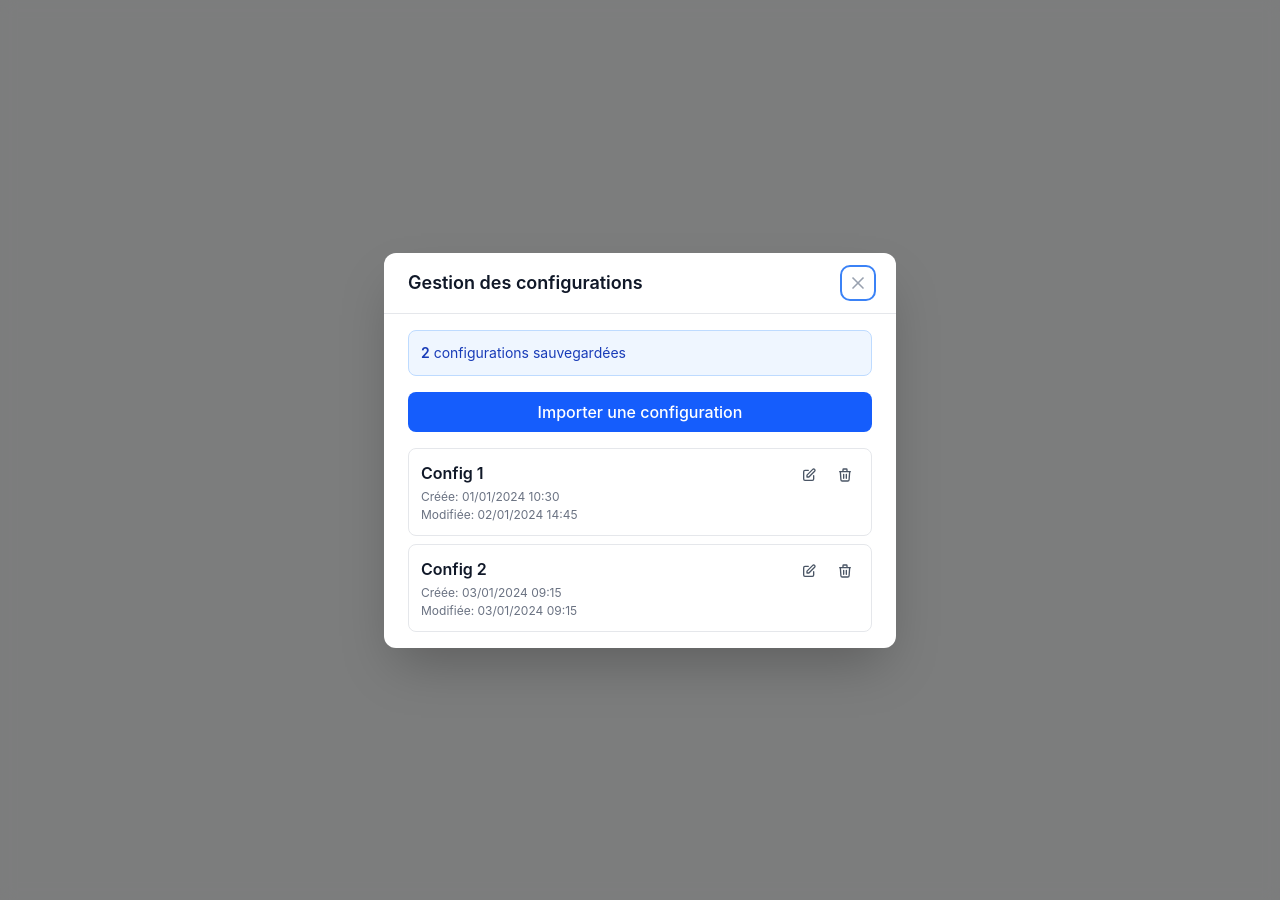
Test: ConfigManagementPanel › should show delete confirmation dialog
Click the button named "Supprimer Config 1": [845, 474] box [831,460,859,488]
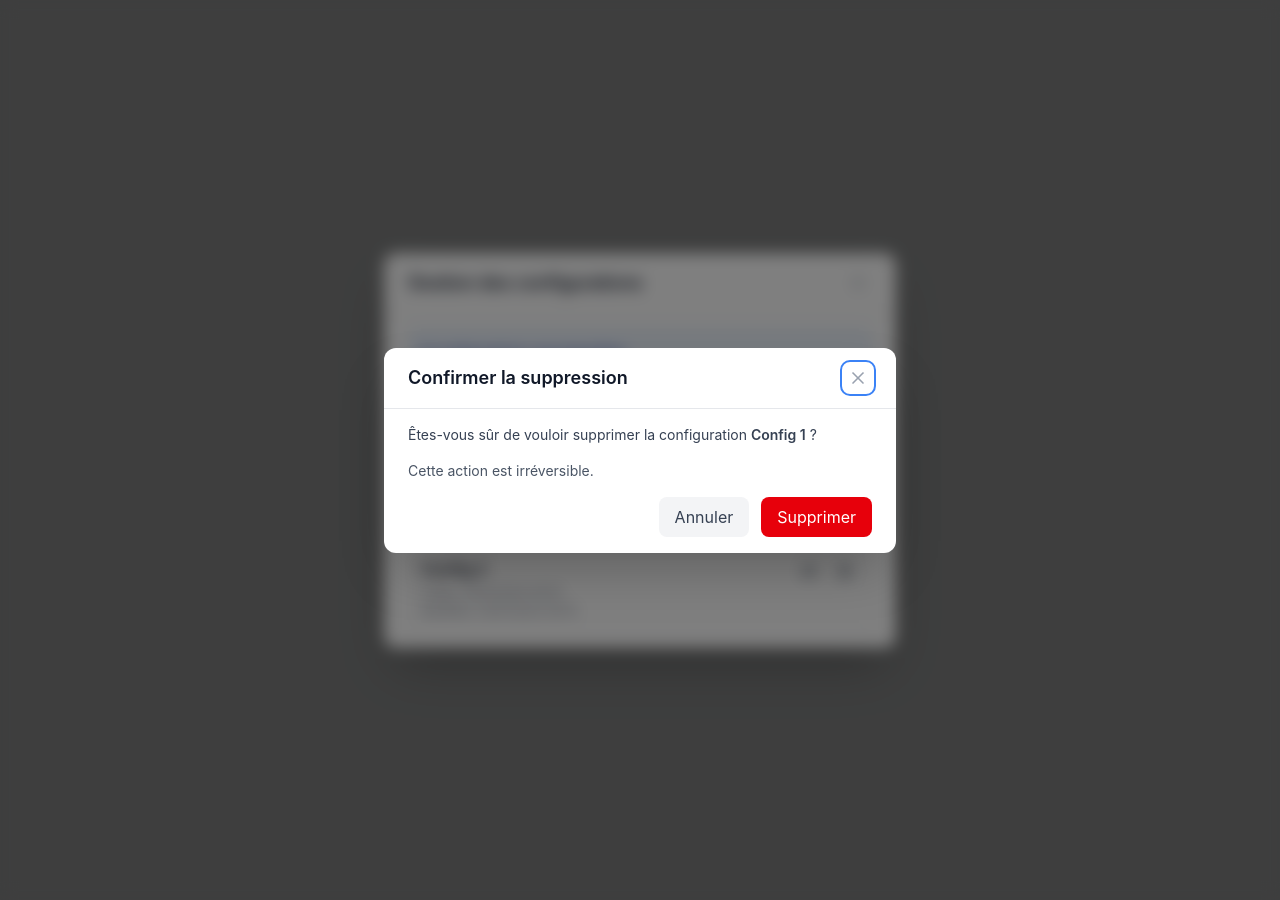
Now the heading "Confirmer la suppression" is shown, box [408,364,628,392]
Now the text "Êtes-vous sûr de vouloir supprimer" is shown, box [408,426,747,442]
Now the text "Cette action est irréversible." is shown, box [408,462,594,478]
